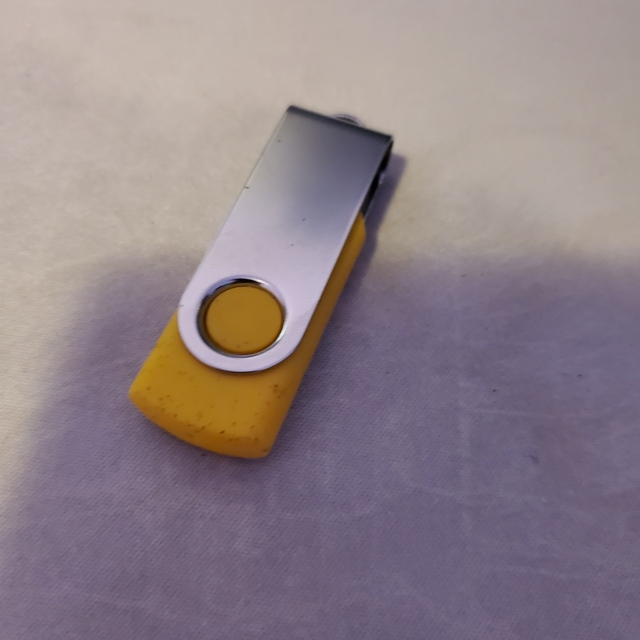usb_drive: (121, 96, 409, 471)
